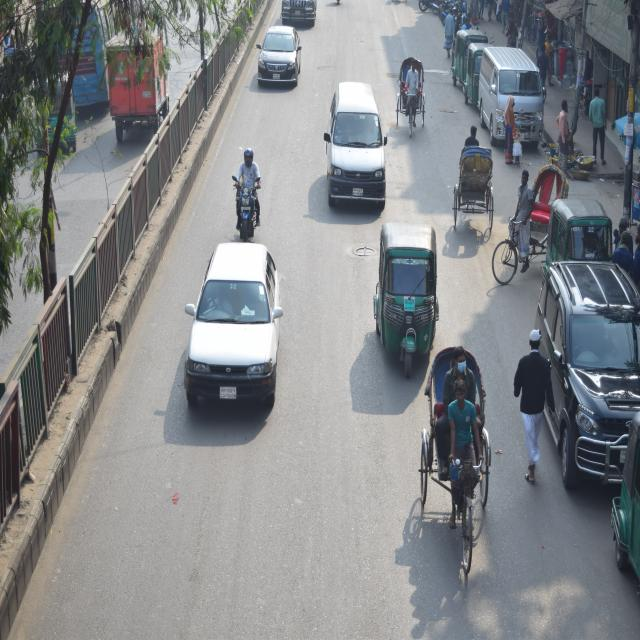car: (531, 252, 640, 494), (190, 233, 290, 416), (327, 78, 385, 205), (255, 24, 308, 93)
microbus: (476, 52, 546, 138)
motorbike: (232, 152, 268, 245)
pickup-van: (105, 32, 183, 143)
